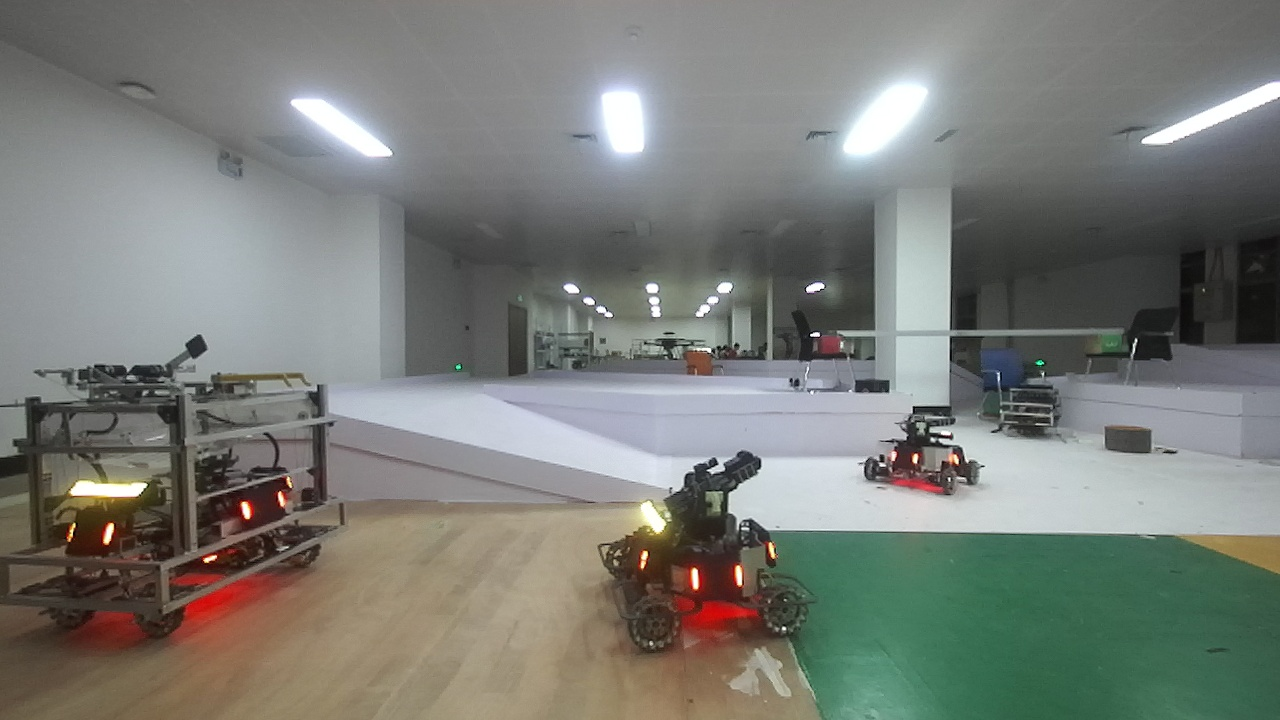car: (6, 326, 356, 650), (594, 453, 824, 658), (859, 397, 989, 492)
